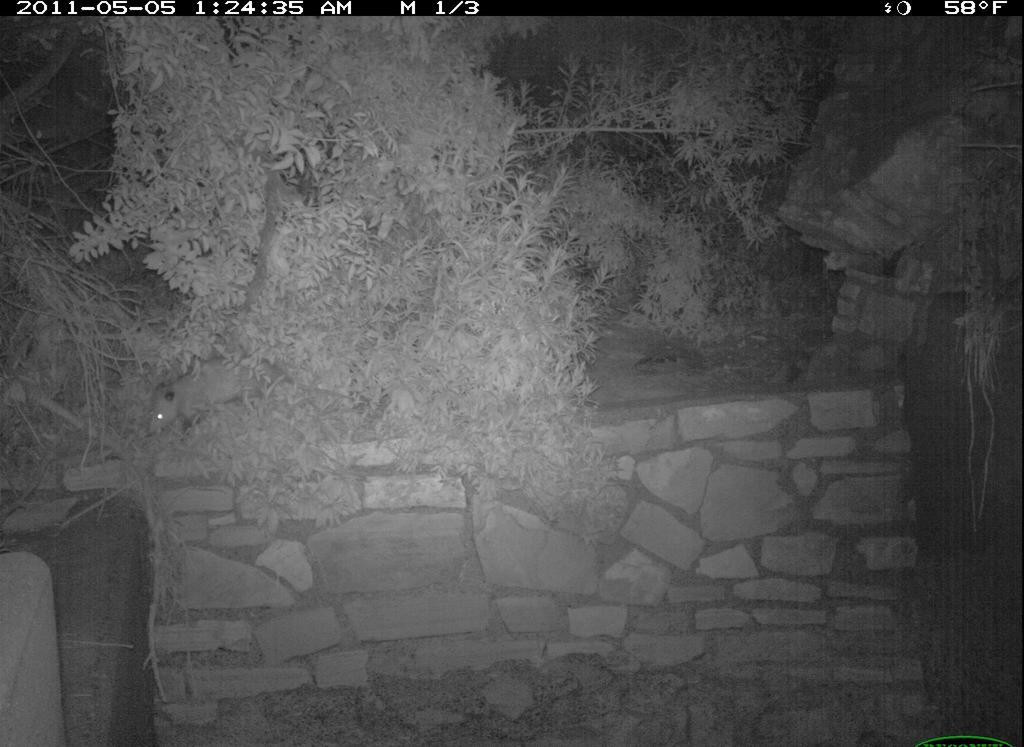opossum: (144, 350, 301, 434)
